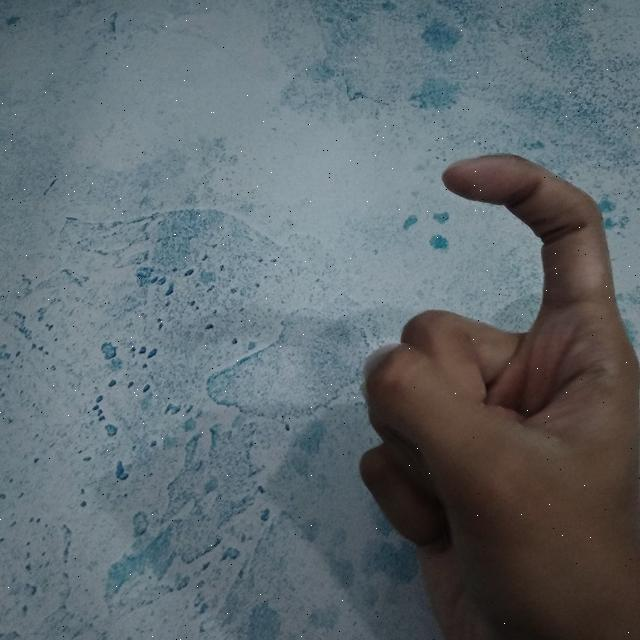X: (347, 139, 640, 640)
